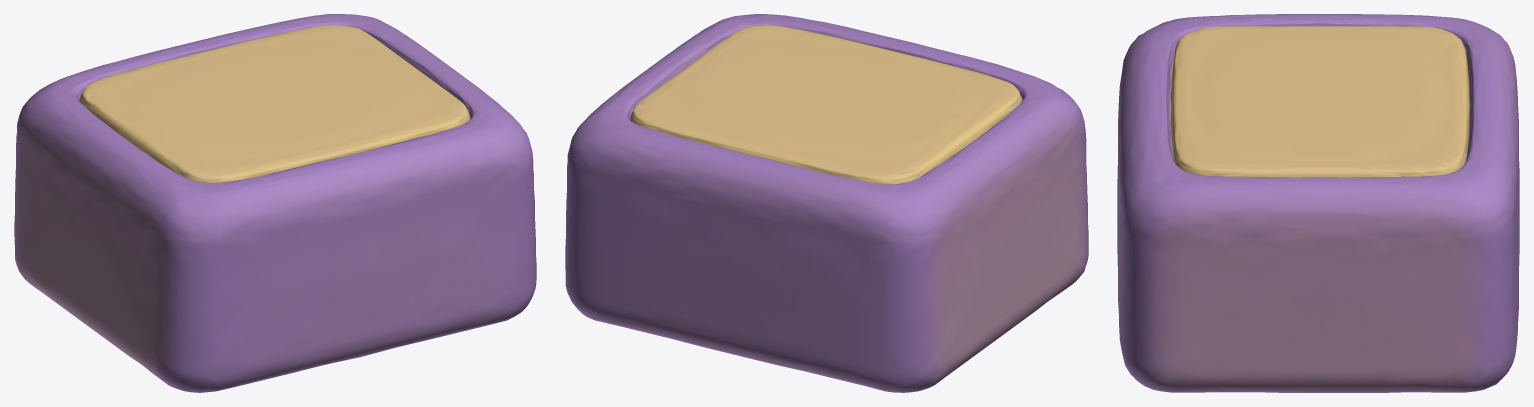
File: Tripo_glaze_block.fbx
3 views of the same model, side by side, from view 1: azimuth 30°, elevation 25°; view 2: azimuth 150°, elevation 25°; view 3: azimuth 270°, elevation 25° (orthographic). The views are drawn at different scales.
Parts seen in each view (by area): view 1: Tripo_glaze_block; view 2: Tripo_glaze_block; view 3: Tripo_glaze_block.
Boxes of the visible parts, <box> form: Tripo_glaze_block: <box>14,14,536,392</box>; Tripo_glaze_block: <box>565,14,1088,392</box>; Tripo_glaze_block: <box>1117,14,1519,392</box>.
Size of the model in its own units: 0.998 by 0.5098 by 0.877.
Materials: 1 (1 with a texture image).
